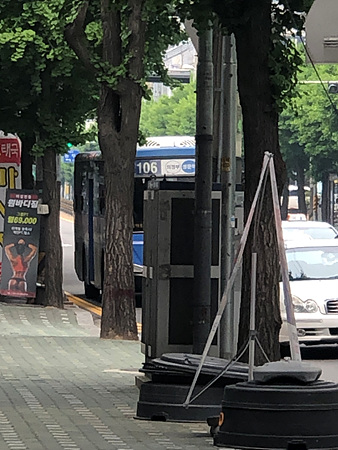bnum: (135, 159, 159, 174)
